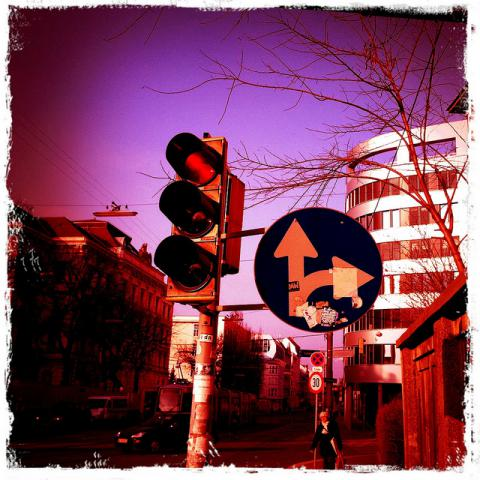car: (115, 412, 191, 452), (34, 401, 92, 430), (88, 396, 128, 419)
